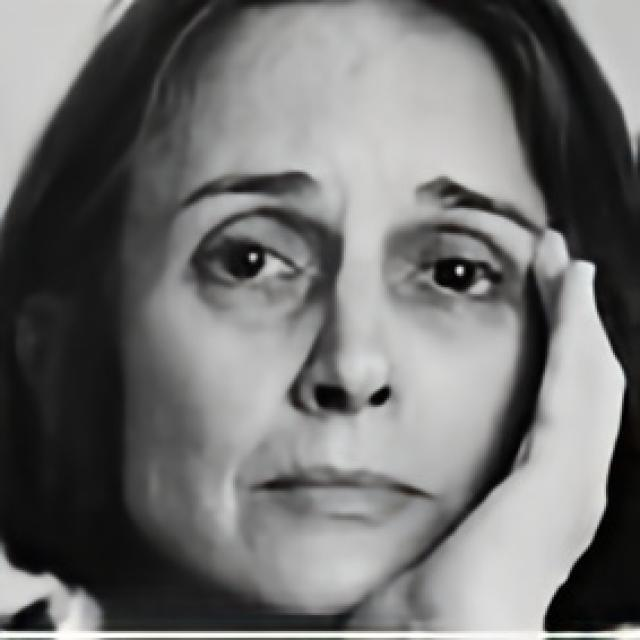sad: (114, 0, 549, 617)
